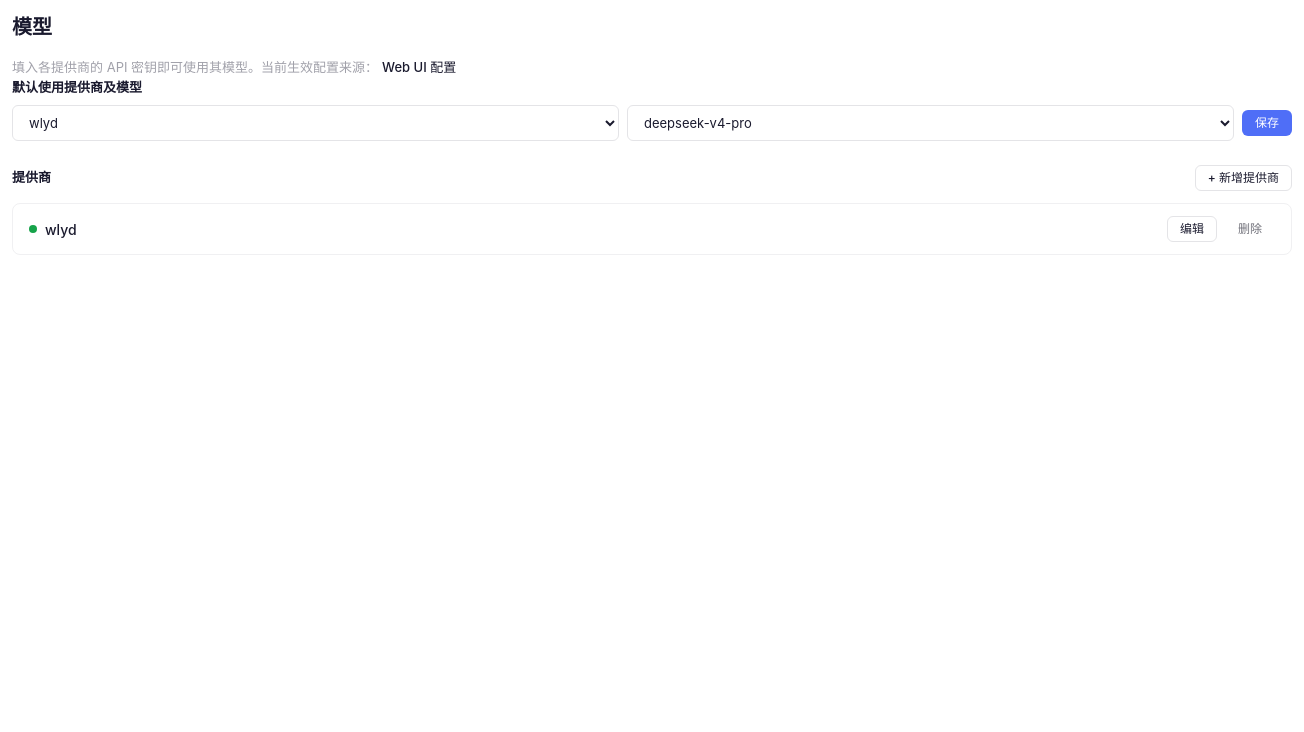
Test case: ModelsSection › 新增提供商展开空白表单
The image size is (1304, 732).
Step 1. Click the button "+ 新增提供商" → (1243, 178), box top-left (1195, 165), bottom-right (1292, 191)
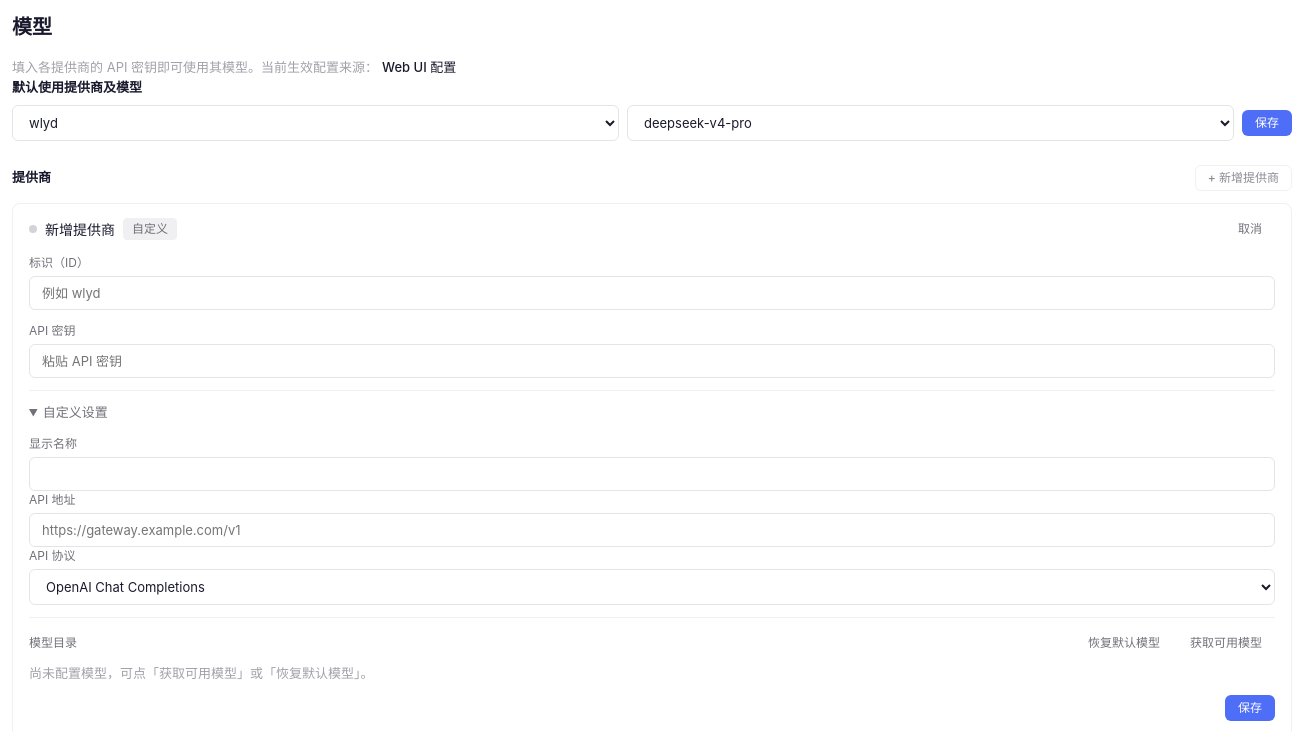
Expected: the field labelled "标识（ID）" is shown, top-left (29, 276), bottom-right (1275, 310)
Expected: the field labelled "显示名称" is shown, top-left (29, 456), bottom-right (1275, 490)
